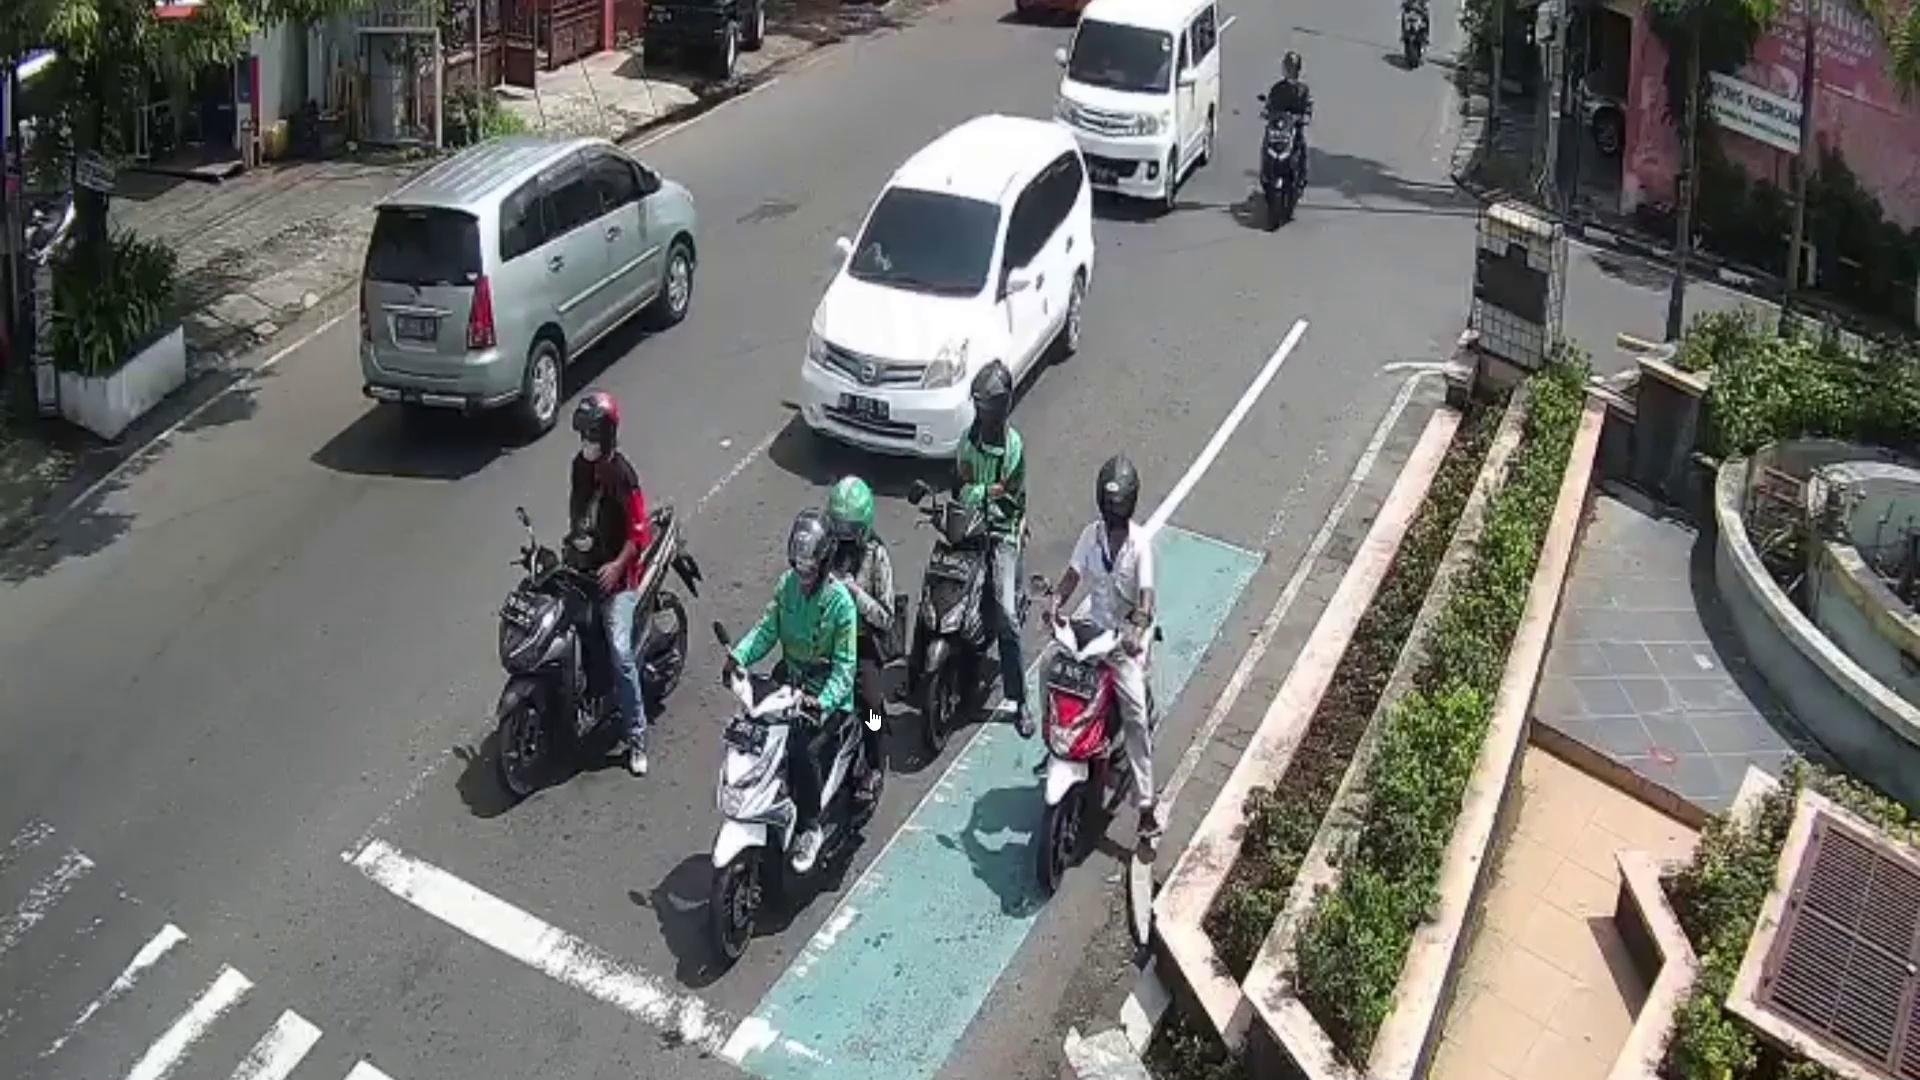car: (804, 113, 1097, 462), (363, 138, 698, 431), (1052, 0, 1224, 212)
motorbike: (489, 501, 702, 800), (711, 669, 870, 959), (1038, 611, 1129, 893), (914, 501, 998, 753), (1263, 109, 1300, 236)
